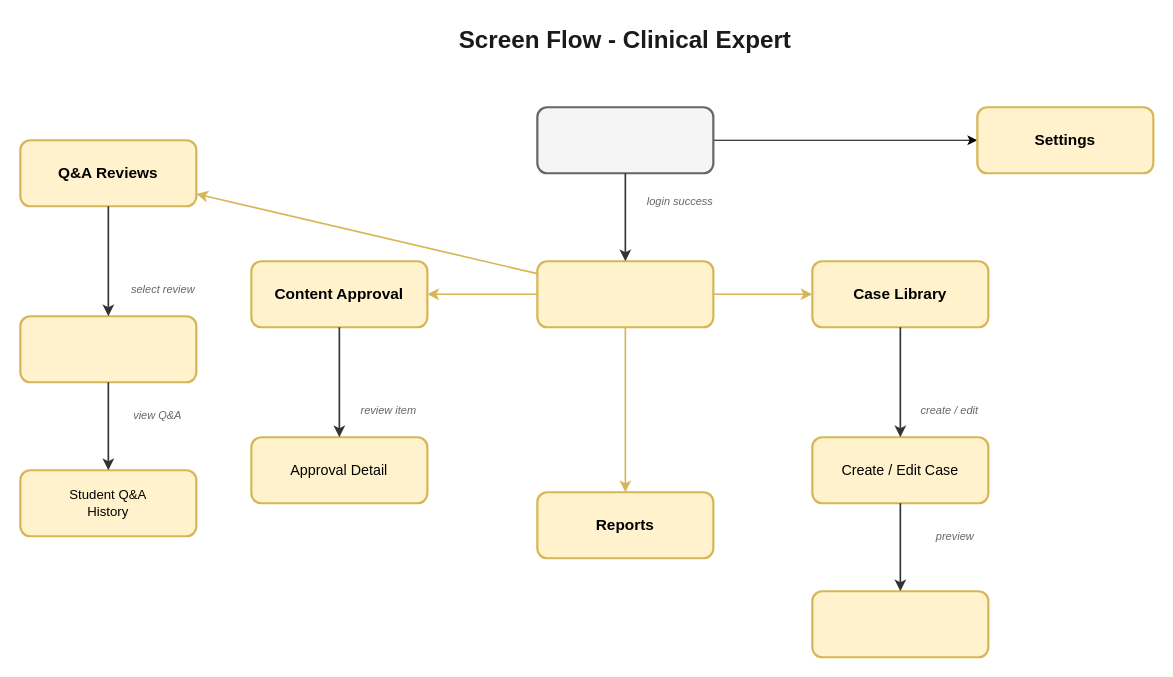
Some shapes in this 1173 by 677 pixel diagram are drawn without their labels. The shapes that lost their labels are listed below. From the top down, each one's box as (x1, y1, x2, y2) in pixels, then its label:
(536, 106, 714, 174): Login Page
(536, 260, 714, 328): Dashboard
(19, 315, 197, 383): Review Detail
(811, 590, 989, 658): Case Preview
